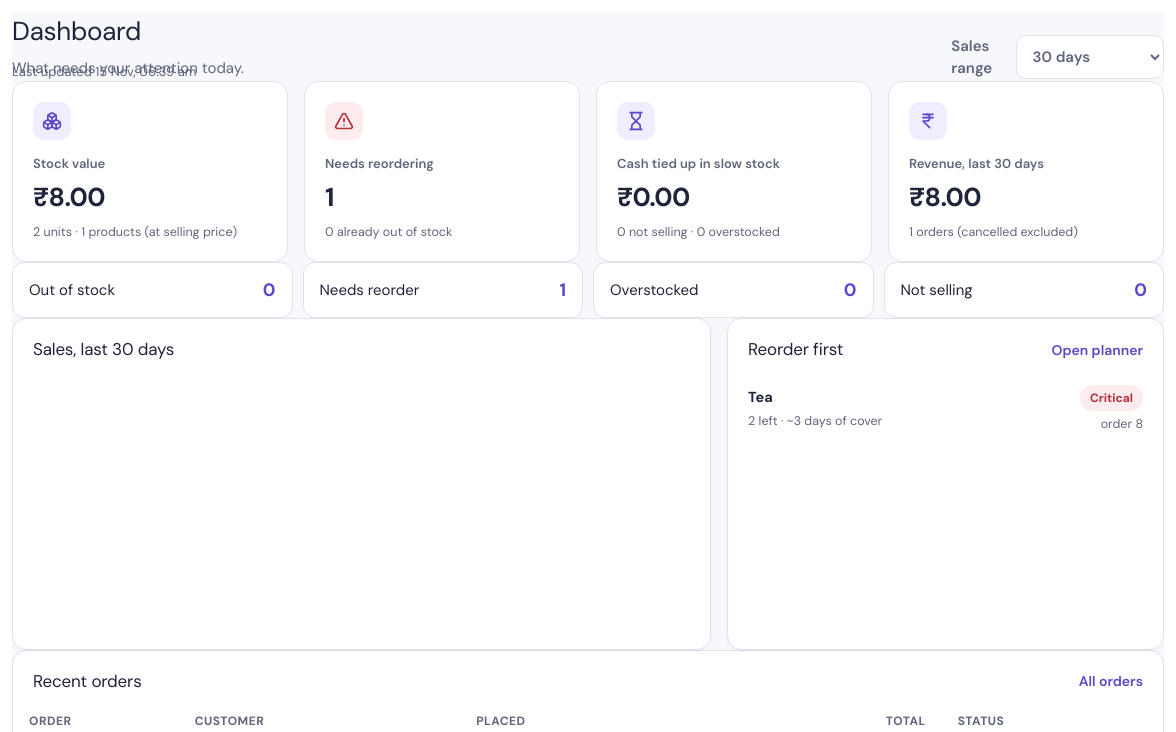
key-page accessibility › updates the dashboard sales range and refreshes on focus
The width and height of the screenshot is (1176, 732).
Expected: the text "Last updated 15 Nov, 06:39 am" is shown, x1=12 y1=62 x2=196 y2=80
Select "7 days" in the dropdown named "Sales date range" at (1090, 57), box x1=1016 y1=35 x2=1164 y2=79
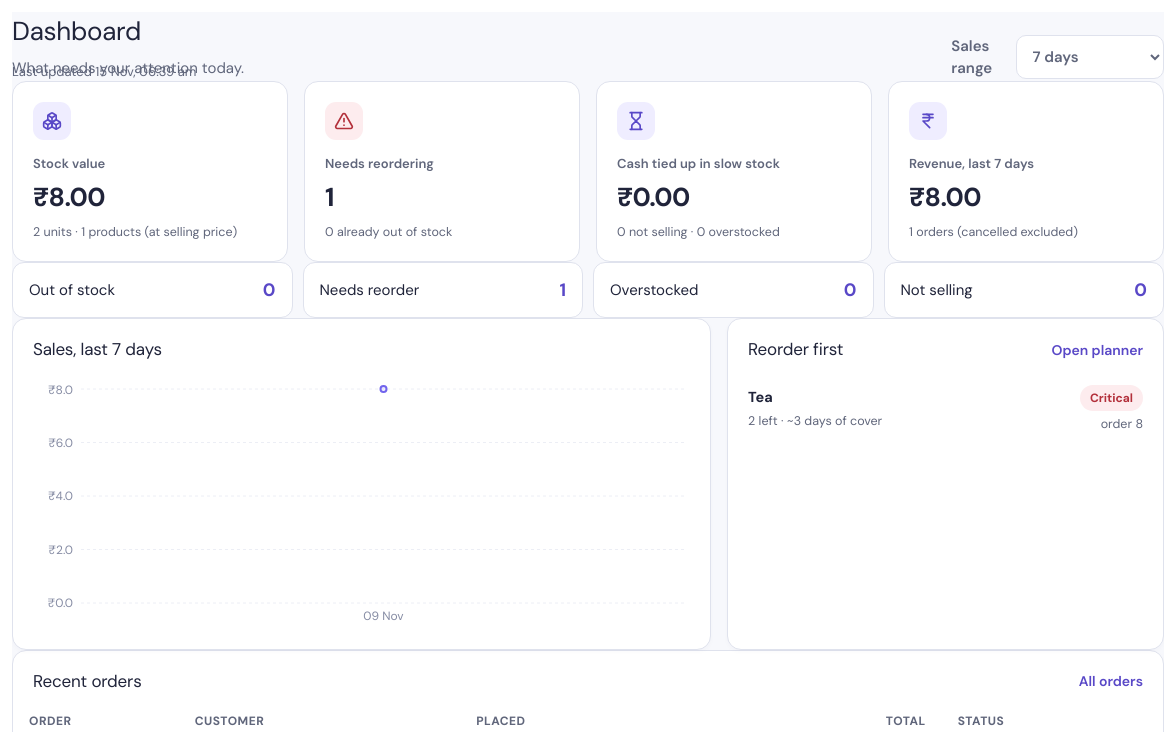
Expected: the heading "Sales, last 7 days" is shown, x1=33 y1=337 x2=162 y2=363
